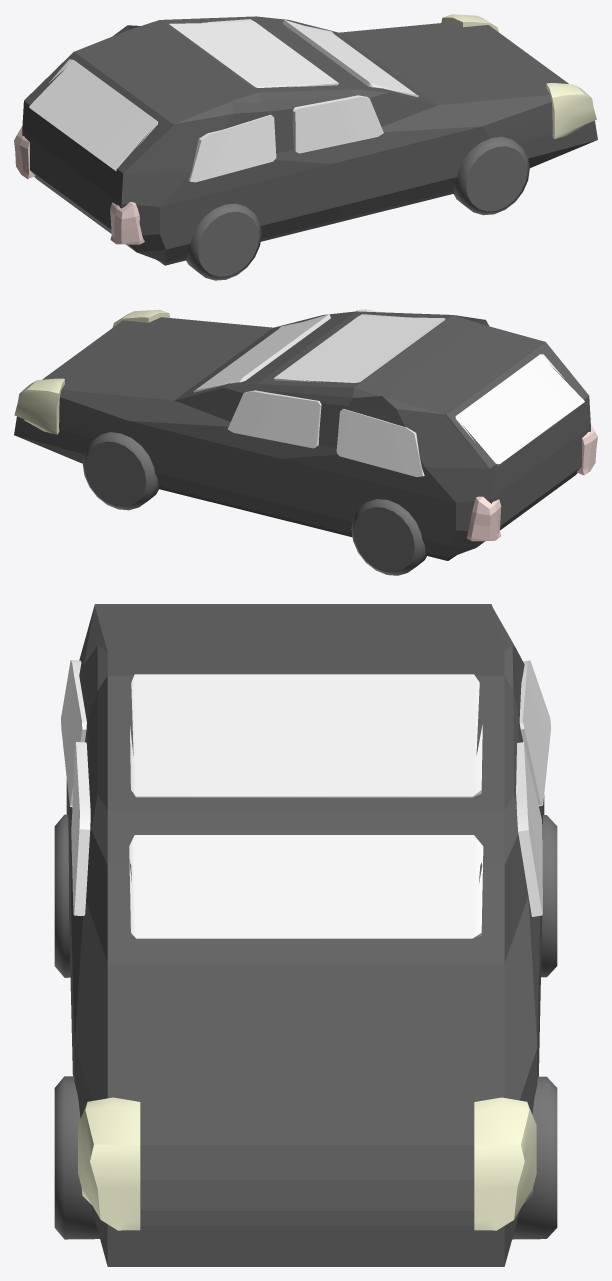
File: CarroNegro.fbx
3 renders of one model, top to bottom at view 1: azimuth 30°, elevation 25°; view 2: azimuth 150°, elevation 25°; view 3: azimuth 270°, elevation 25°, orthographic. The views are drawn at different scales.
Visible parts, largest first — view 1: pCube1, pCube10, pCube15, pCylinder1, pCylinder2, pCube8, pCube13, pCube6, pCube9, pCube11; view 2: pCube1, pCube10, pCube15, pCylinder3, pCylinder4, pCube12, pCube14, pCube6, pCube9, pCube11; view 3: pCube1, pCube15, pCube6, pCube9, pCylinder1, pCylinder3, pCube12, pCube14, pCube8, pCylinder4, pCylinder2, pCube13.
Boxes of the visible parts, x1=… form: pCube1: x1=22, y1=16, x2=597, y2=265; pCube10: x1=29, y1=59, x2=157, y2=170; pCube15: x1=168, y1=19, x2=339, y2=87; pCylinder1: x1=454, y1=136, x2=529, y2=215; pCylinder2: x1=186, y1=203, x2=261, y2=280; pCube8: x1=292, y1=95, x2=383, y2=153; pCube13: x1=188, y1=114, x2=276, y2=182; pCube6: x1=282, y1=20, x2=418, y2=97; pCube9: x1=441, y1=14, x2=596, y2=139; pCube11: x1=14, y1=126, x2=144, y2=244; pCube1: x1=14, y1=311, x2=590, y2=560; pCube10: x1=455, y1=354, x2=584, y2=465; pCube15: x1=274, y1=314, x2=445, y2=382; pCylinder3: x1=82, y1=432, x2=158, y2=510; pCylinder4: x1=351, y1=499, x2=426, y2=575; pCube12: x1=228, y1=390, x2=321, y2=448; pCube14: x1=336, y1=409, x2=424, y2=476; pCube6: x1=193, y1=314, x2=330, y2=392; pCube9: x1=14, y1=309, x2=170, y2=434; pCube11: x1=467, y1=425, x2=597, y2=541; pCube1: x1=66, y1=604, x2=544, y2=1266; pCube15: x1=130, y1=674, x2=482, y2=797; pCube6: x1=129, y1=835, x2=483, y2=939; pCube9: x1=78, y1=1097, x2=536, y2=1230; pCylinder1: x1=54, y1=1076, x2=99, y2=1239; pCylinder3: x1=512, y1=1076, x2=557, y2=1239; pCube12: x1=516, y1=742, x2=542, y2=916; pCube14: x1=519, y1=660, x2=551, y2=806; pCube8: x1=71, y1=742, x2=90, y2=915; pCylinder4: x1=541, y1=815, x2=557, y2=977; pCylinder2: x1=54, y1=814, x2=70, y2=977; pCube13: x1=61, y1=660, x2=86, y2=807.
Size of the model in its own units: 24.46 by 8.28 by 11.09.
